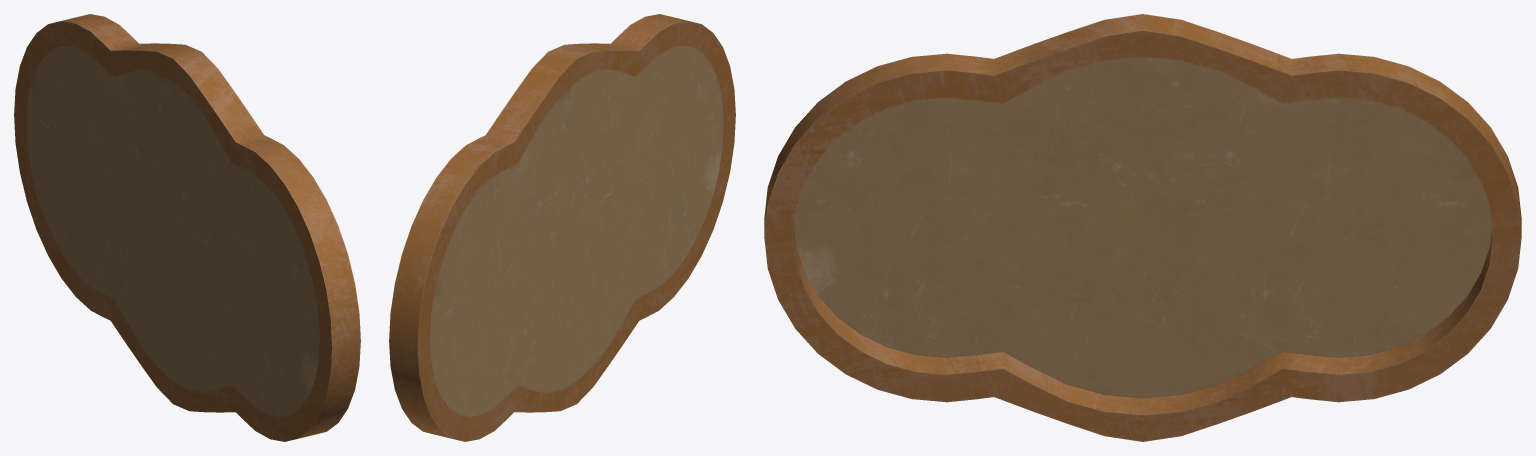
Rendered from WallEndUnity.fbx.
The picture shows the model from 3 angles, left to right: view 1: azimuth 30°, elevation 25°; view 2: azimuth 150°, elevation 25°; view 3: azimuth 270°, elevation 25°; orthographic projection. The views are drawn at different scales.
Parts seen in each view (by area): view 1: Окружность.004; view 2: Окружность.004; view 3: Окружность.004.
Part boxes in pixels (bbox=[...]): Окружность.004: bbox=[14, 14, 360, 441]; Окружность.004: bbox=[389, 14, 735, 441]; Окружность.004: bbox=[764, 14, 1521, 441].
Size of the model in its own units: 20 by 230 by 384.
